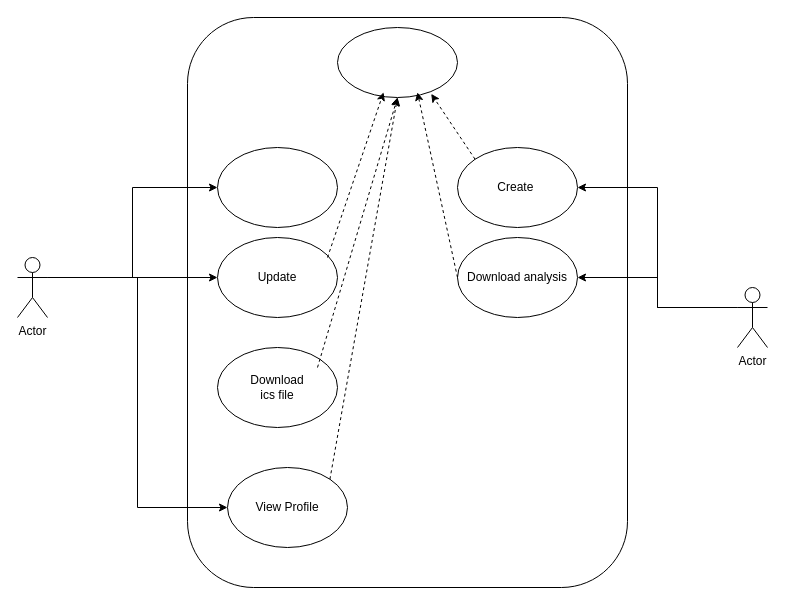
The diagram is 785 pixels wide and 605 high, and some of its shapes have lost their labels. Each missing label, with the centre of its shape:
Login: [397,62]
Register: [277,187]
